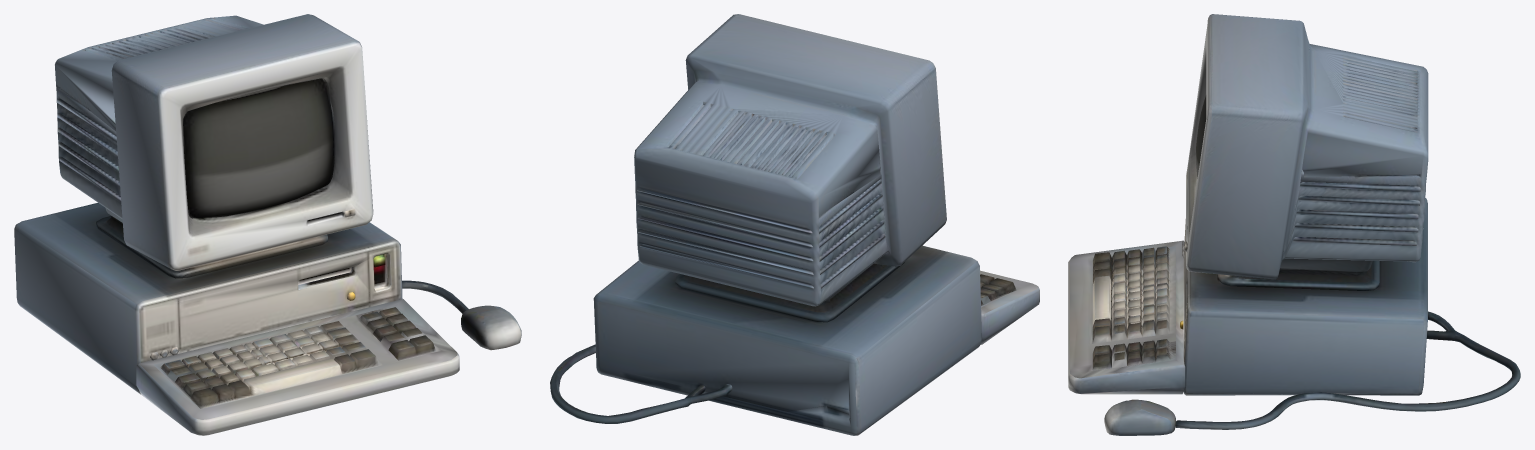
File: computer.glb
The picture shows the model from 3 angles, left to right: view 1: azimuth 30°, elevation 25°; view 2: azimuth 150°, elevation 25°; view 3: azimuth 270°, elevation 25°; orthographic projection. The views are drawn at different scales.
Visible parts, largest first — view 1: Computer, Body1, keyboard, screen, part_8; view 2: Computer, Body1, keyboard; view 3: Computer, Body1, keyboard, part_8, screen.
Boxes of the visible parts, x1=… form: Computer: x1=55, y1=14, x2=373, y2=278; Body1: x1=14, y1=203, x2=468, y2=394; keyboard: x1=136, y1=299, x2=459, y2=435; screen: x1=183, y1=78, x2=335, y2=218; part_8: x1=461, y1=305, x2=521, y2=350; Computer: x1=634, y1=14, x2=946, y2=322; Body1: x1=550, y1=245, x2=981, y2=435; keyboard: x1=980, y1=270, x2=1039, y2=344; Computer: x1=1184, y1=14, x2=1428, y2=290; Body1: x1=1175, y1=198, x2=1520, y2=429; keyboard: x1=1068, y1=240, x2=1185, y2=394; part_8: x1=1104, y1=399, x2=1175, y2=435; screen: x1=1196, y1=95, x2=1206, y2=178.
Size of the model in its own units: 0.7096 by 0.5653 by 0.8295.
Materials: 1 (1 with a texture image).
